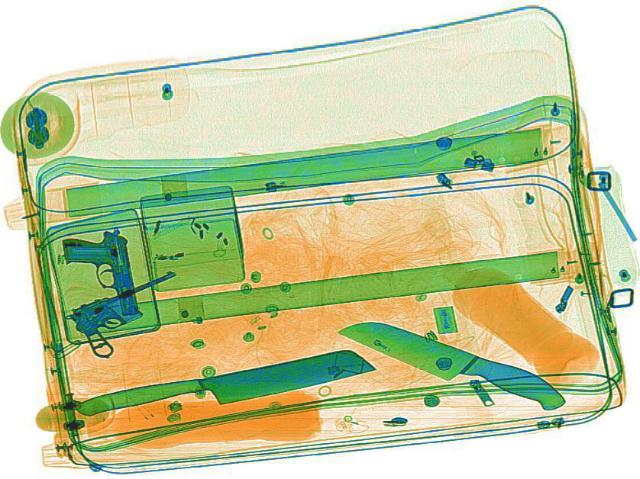Gun: (56, 264, 212, 360), (58, 223, 148, 322)
Knife: (329, 304, 577, 419), (71, 344, 381, 426)
